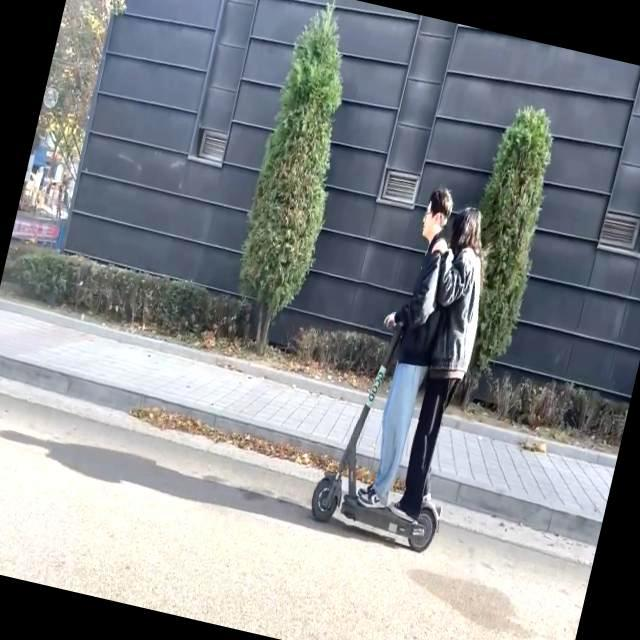bare_head: (405, 185, 452, 243), (445, 204, 484, 251)
human: (378, 203, 487, 522), (353, 186, 451, 510)
kickboard: (301, 459, 444, 559)
